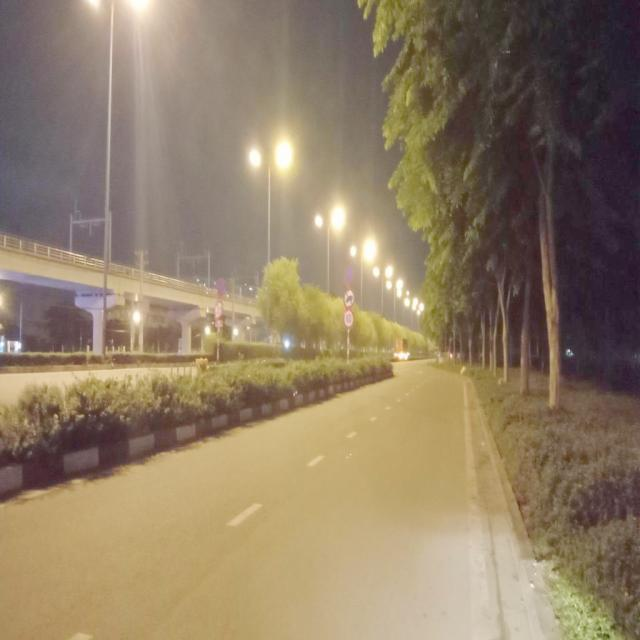106-cam-oto-tai: (342, 288, 356, 310)
